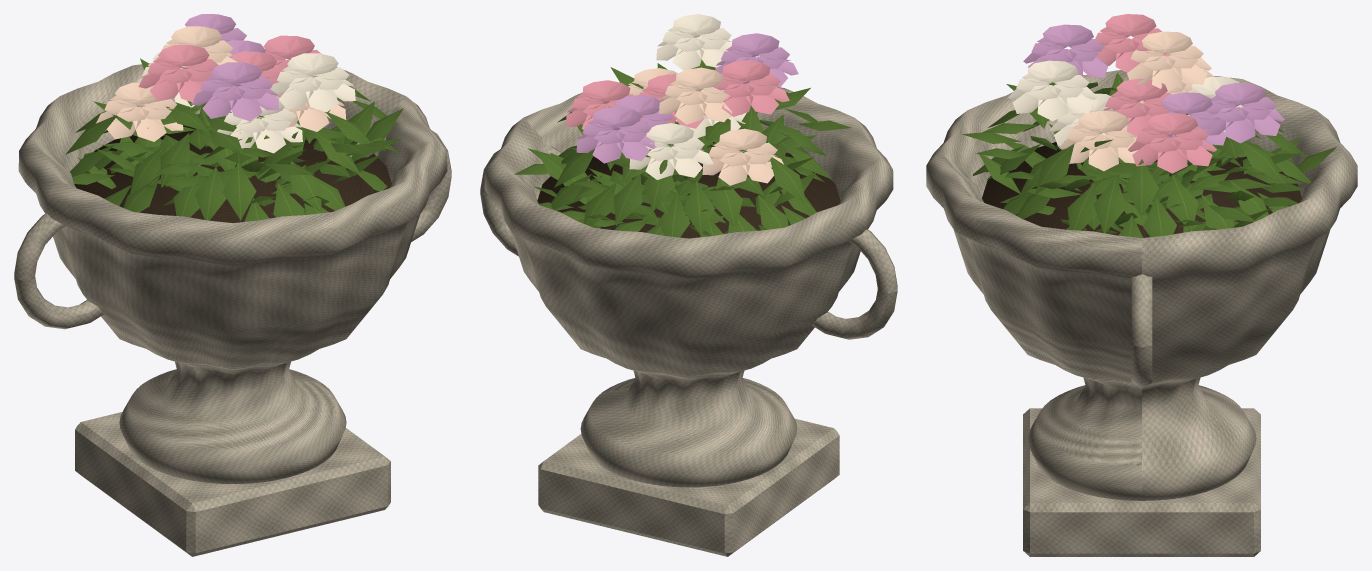
Rendered from urn-before-stems.glb.
3 renders of one model, left to right at view 1: azimuth 30°, elevation 25°; view 2: azimuth 150°, elevation 25°; view 3: azimuth 270°, elevation 25°, orthographic. The views are drawn at different scales.
Visible parts, largest first — view 1: Garden_urn.001; view 2: Garden_urn.001; view 3: Garden_urn.001.
Part boxes in pixels (x1=…): Garden_urn.001: x1=14, y1=14, x2=451, y2=556; Garden_urn.001: x1=480, y1=14, x2=897, y2=556; Garden_urn.001: x1=926, y1=14, x2=1357, y2=556.
Size of the model in its own units: 1.11 by 1.1 by 0.9432.
Materials: 4 (3 with a texture image).
